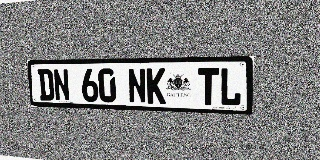0: (98, 68, 116, 103)
6: (81, 69, 99, 102)
D: (37, 69, 55, 101)
K: (146, 68, 166, 104)
L: (219, 67, 242, 106)
N: (128, 68, 147, 103), (53, 69, 70, 101)
T: (198, 68, 219, 106)
